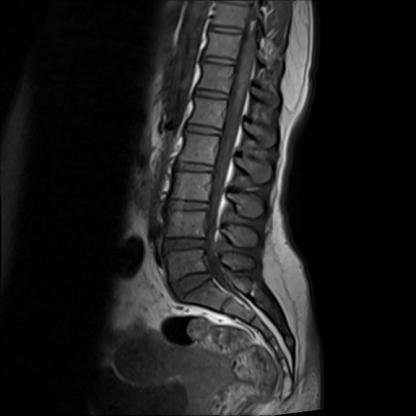Degenerative Disc Diseaserotation: (164, 233, 209, 256)
Disc Herniationrotation: (164, 234, 209, 257)
